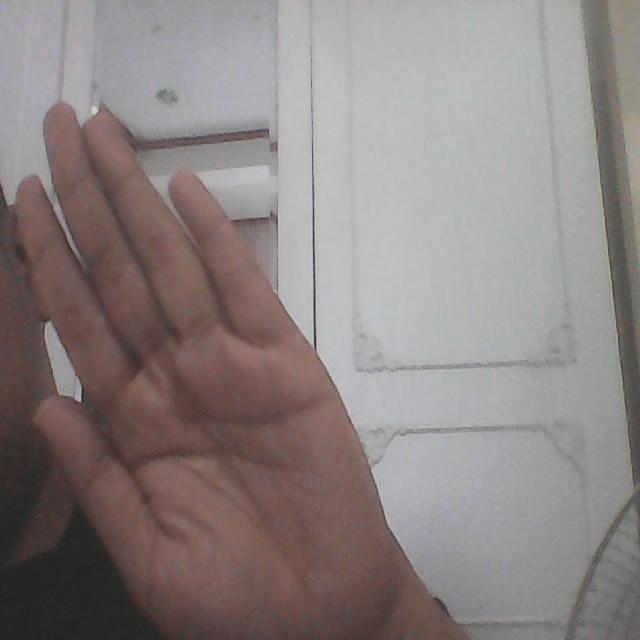hand: (12, 96, 407, 640)
